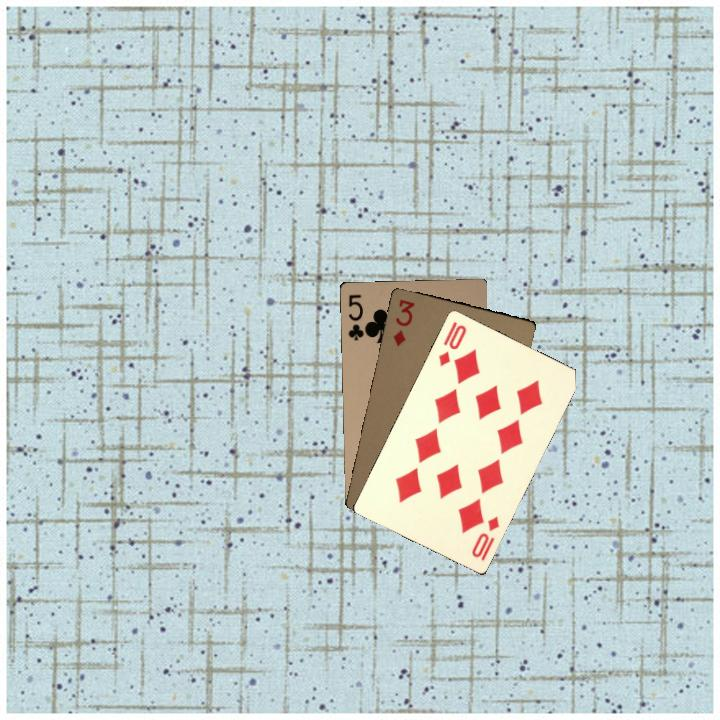10d: (434, 318, 469, 369), (467, 512, 502, 563)
3d: (389, 295, 417, 349)
5c: (344, 291, 369, 343)
